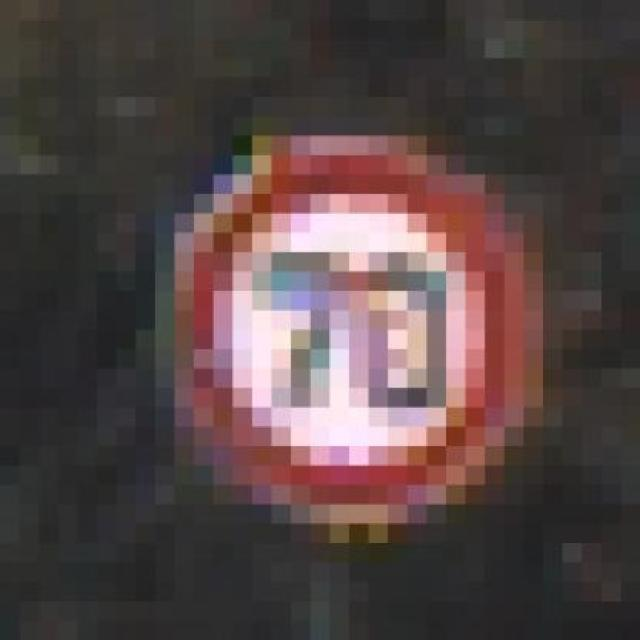forb_speed_over_70: (186, 142, 532, 516)
